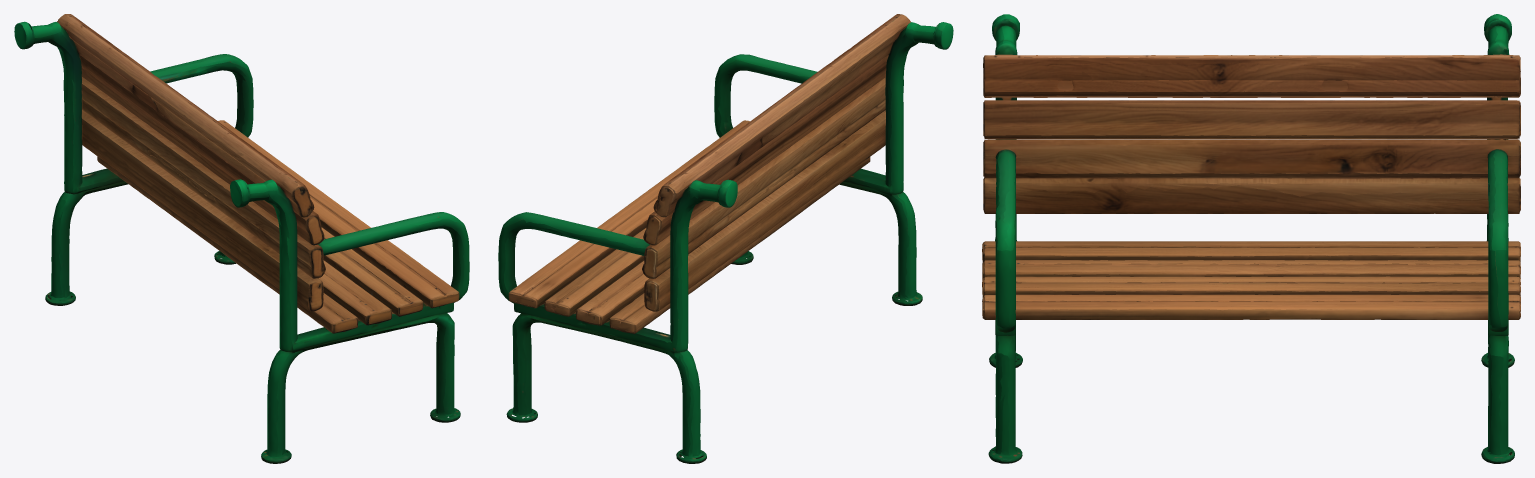
3 views of the same model, side by side, from view 1: azimuth 30°, elevation 25°; view 2: azimuth 150°, elevation 25°; view 3: azimuth 270°, elevation 25° (orthographic). The views are drawn at different scales.
Visible parts, largest first — view 1: world; view 2: world; view 3: world.
Boxes of the visible parts, x1,y1,x2,y2 form: world: [14, 14, 469, 463]; world: [498, 14, 953, 463]; world: [982, 14, 1520, 463].
Size of the model in its own units: 0.5672 by 0.6712 by 1.
1 material, 1 textured.
